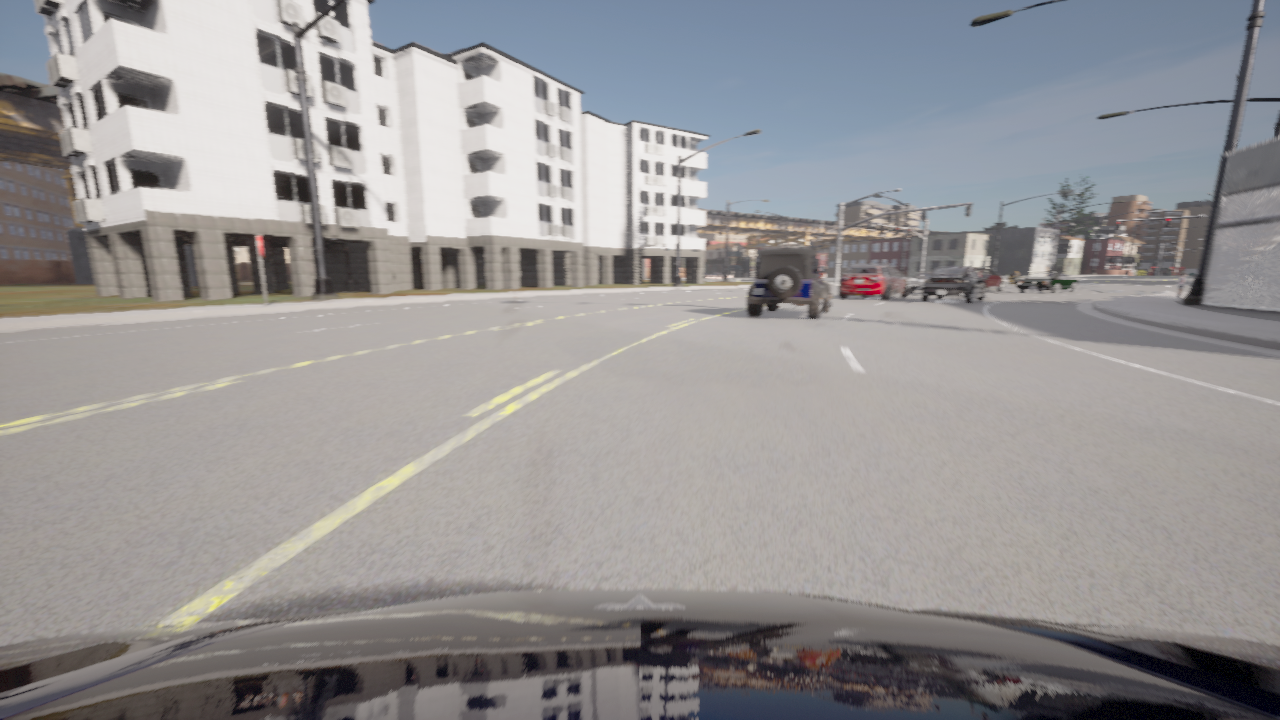cyclist: (0, 588, 1279, 719), (747, 247, 831, 318), (839, 264, 909, 299), (921, 266, 988, 302), (1015, 272, 1078, 293), (974, 268, 1003, 291), (908, 272, 930, 293), (1007, 274, 1024, 285), (713, 272, 722, 277), (704, 272, 711, 276)
pedestrian: (1176, 273, 1186, 297)
